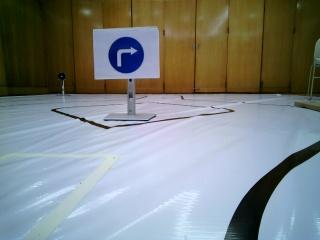right: (92, 30, 162, 78)
